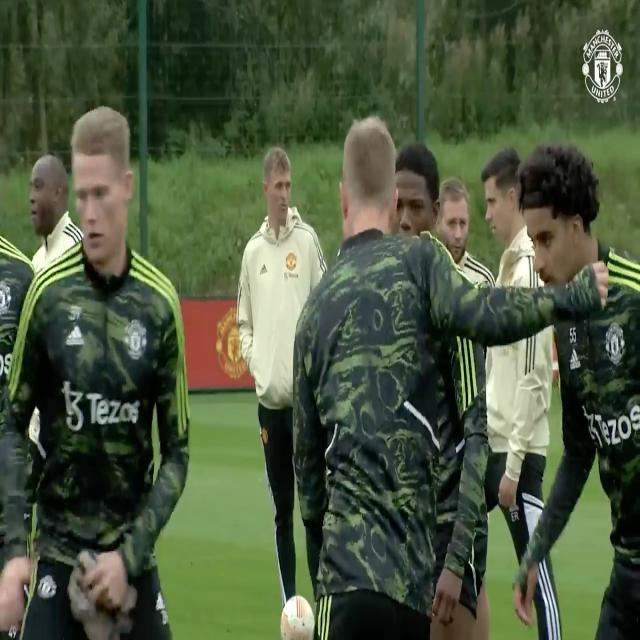Adidas: (65, 325, 86, 348), (569, 348, 582, 372), (260, 262, 268, 278)
